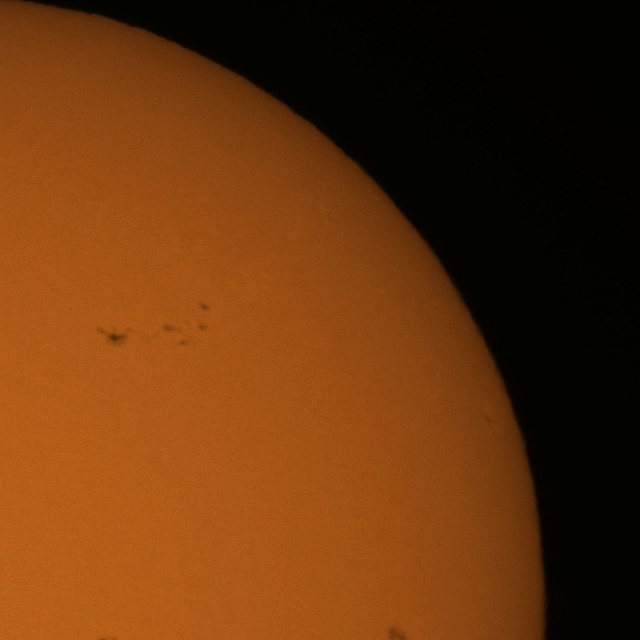sunspot: (161, 318, 214, 350)
